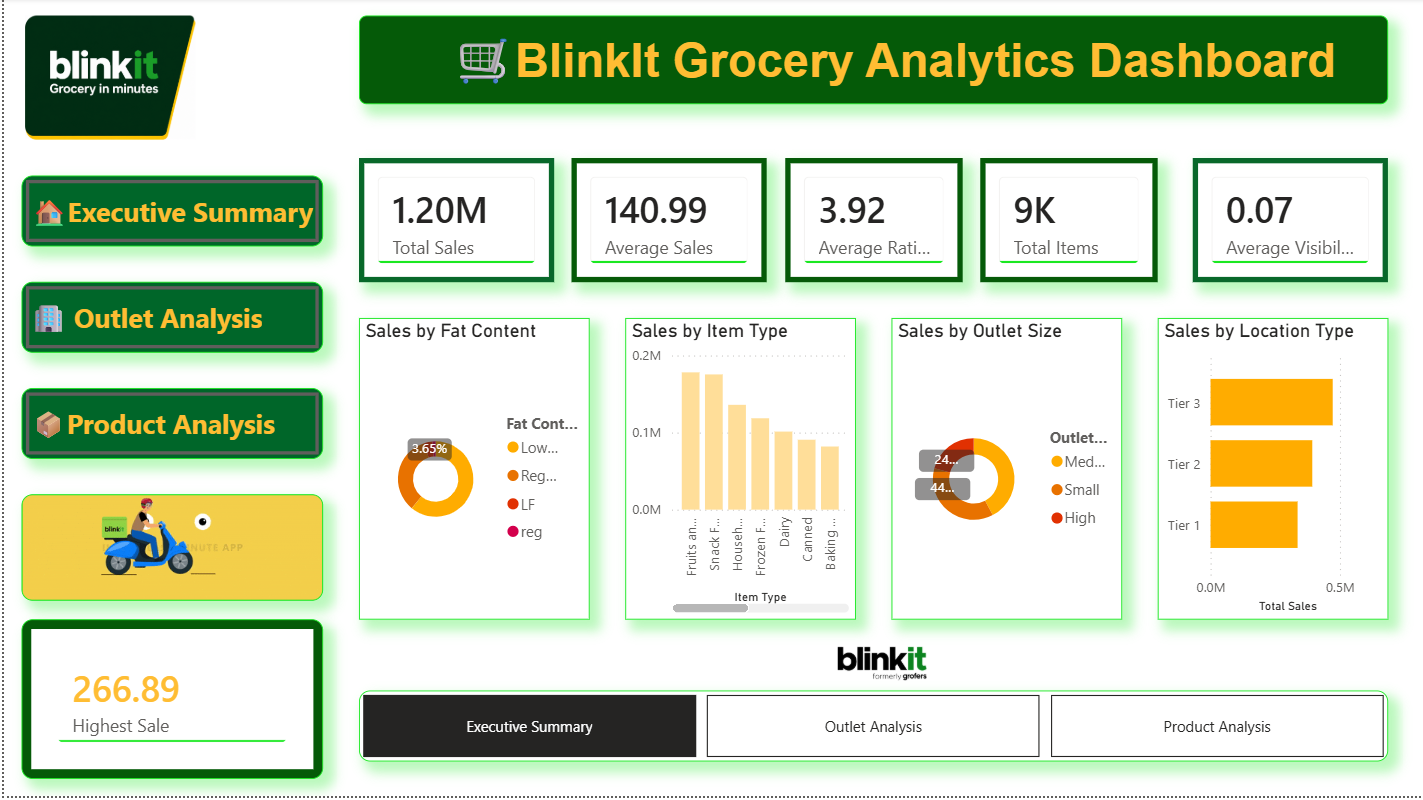

This screenshot's page, from the dashboard's own definition file:
{"tool":"powerbi","page":{"name":"Executive Summary","canvas":[1280,720],"ordinal":0},"visuals":[{"type":"cardVisual","fields":{"Data":["BlinkIT Grocery Data.Total Sales"]},"box":[320,144,176,112],"z":0},{"type":"cardVisual","fields":{"Data":["BlinkIT Grocery Data.Average Sales"]},"box":[512,144,176,112],"z":1000},{"type":"cardVisual","fields":{"Data":["BlinkIT Grocery Data.Average Rating"]},"box":[704,144,160,112],"z":2000},{"type":"cardVisual","fields":{"Data":["BlinkIT Grocery Data.Total Items"]},"box":[880,144,160,112],"z":3000},{"type":"cardVisual","fields":{"Data":["BlinkIT Grocery Data.Average Visibility"]},"box":[1072,144,176,112],"z":4000},{"type":"donutChart","title":"Sales by Fat Content","fields":{"Category":["BlinkIT Grocery Data.Fat Content"],"Y":["BlinkIT Grocery Data.Total Sales"]},"box":[320,288,208,272],"z":5000},{"type":"clusteredColumnChart","title":"Sales by Item Type","fields":{"Category":["BlinkIT Grocery Data.Item Type"],"Y":["BlinkIT Grocery Data.Total Sales"]},"box":[560,288,208,272],"z":6000},{"type":"donutChart","title":"Sales by Outlet Size","fields":{"Category":["BlinkIT Grocery Data.Outlet Size"],"Y":["BlinkIT Grocery Data.Total Sales"]},"box":[800,288,208,272],"z":7000},{"type":"barChart","title":"Sales by Location Type","fields":{"Category":["BlinkIT Grocery Data.Location Type"],"Y":["BlinkIT Grocery Data.Total Sales"]},"box":[1040,288,208,272],"z":8000},{"type":"textbox","box":[320,16,928,80],"z":9000},{"type":"pageNavigator","box":[320,624,928,64],"z":10000},{"type":"cardVisual","fields":{"Data":["BlinkIT Grocery Data.Highest Sale"]},"box":[16,560,272,144],"z":11000},{"type":"image","box":[16,448,272,96],"z":12000},{"type":"image","box":[752,560,80,80],"z":13000},{"type":"actionButton","box":[16,160,272,64],"z":14000},{"type":"actionButton","box":[16,256,272,64],"z":15000},{"type":"actionButton","box":[16,352,272,64],"z":16000},{"type":"image","box":[16,16,160,112],"z":17000}]}

Visuals, with their boxes in screenshot pixels (x1, y1, x2, y2), scaled from the page's 1280x720 canvas onto the 1423x800 screenshot:
cardVisual - BlinkIT Grocery Data.Total Sales: [x1=356, y1=160, x2=551, y2=284]
cardVisual - BlinkIT Grocery Data.Average Sales: [x1=569, y1=160, x2=765, y2=284]
cardVisual - BlinkIT Grocery Data.Average Rating: [x1=783, y1=160, x2=961, y2=284]
cardVisual - BlinkIT Grocery Data.Total Items: [x1=978, y1=160, x2=1156, y2=284]
cardVisual - BlinkIT Grocery Data.Average Visibility: [x1=1192, y1=160, x2=1387, y2=284]
"Sales by Fat Content" donutChart: [x1=356, y1=320, x2=587, y2=622]
"Sales by Item Type" clusteredColumnChart: [x1=623, y1=320, x2=854, y2=622]
"Sales by Outlet Size" donutChart: [x1=889, y1=320, x2=1121, y2=622]
"Sales by Location Type" barChart: [x1=1156, y1=320, x2=1387, y2=622]
textbox: [x1=356, y1=18, x2=1387, y2=107]
pageNavigator: [x1=356, y1=693, x2=1387, y2=764]
cardVisual - BlinkIT Grocery Data.Highest Sale: [x1=18, y1=622, x2=320, y2=782]
image: [x1=18, y1=498, x2=320, y2=604]
image: [x1=836, y1=622, x2=925, y2=711]
actionButton: [x1=18, y1=178, x2=320, y2=249]
actionButton: [x1=18, y1=284, x2=320, y2=356]
actionButton: [x1=18, y1=391, x2=320, y2=462]
image: [x1=18, y1=18, x2=196, y2=142]
